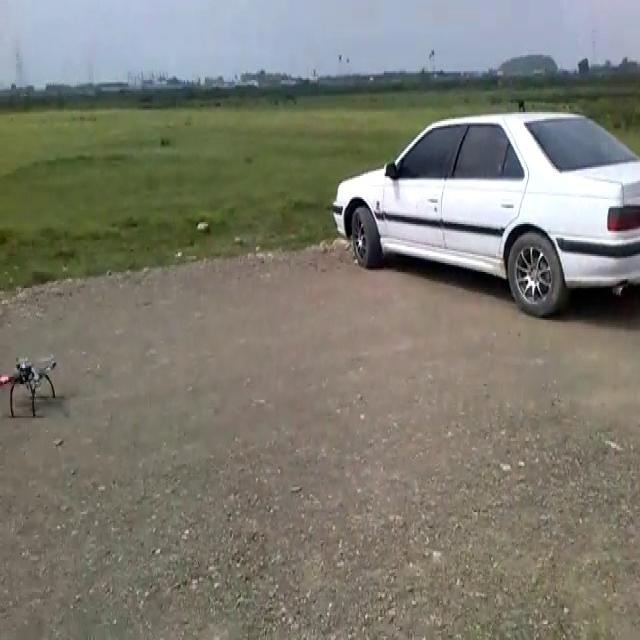drone: (0, 347, 59, 421)
